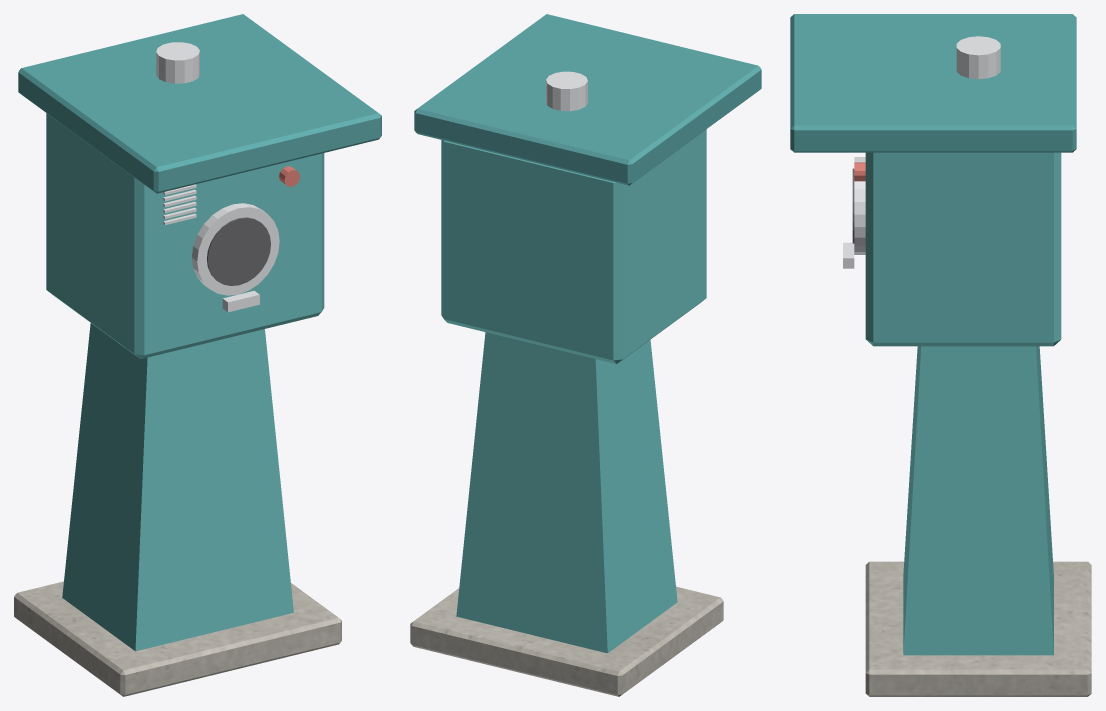
The model's file is tube_kiosk.glb.
The picture shows the model from 3 angles, left to right: view 1: azimuth 30°, elevation 25°; view 2: azimuth 150°, elevation 25°; view 3: azimuth 270°, elevation 25°; orthographic projection. The views are drawn at different scales.
Visible parts, largest first — view 1: tube_kiosk_teal, tube_kiosk_teal_d, tube_kiosk_concrete, tube_kiosk_chrome, tube_kiosk_dark; view 2: tube_kiosk_teal, tube_kiosk_teal_d, tube_kiosk_concrete, tube_kiosk_chrome; view 3: tube_kiosk_teal, tube_kiosk_teal_d, tube_kiosk_concrete, tube_kiosk_chrome.
Part boxes in pixels (left/top/right/bottom): tube_kiosk_teal: left=46, top=113, right=324, bottom=651; tube_kiosk_teal_d: left=18, top=14, right=381, bottom=193; tube_kiosk_concrete: left=14, top=581, right=341, bottom=696; tube_kiosk_chrome: left=156, top=42, right=279, bottom=312; tube_kiosk_dark: left=207, top=217, right=270, bottom=285; tube_kiosk_teal: left=441, top=129, right=706, bottom=653; tube_kiosk_teal_d: left=414, top=14, right=761, bottom=185; tube_kiosk_concrete: left=410, top=586, right=723, bottom=696; tube_kiosk_chrome: left=546, top=71, right=587, bottom=111; tube_kiosk_teal: left=865, top=152, right=1061, bottom=655; tube_kiosk_teal_d: left=790, top=14, right=1076, bottom=152; tube_kiosk_concrete: left=865, top=561, right=1091, bottom=696; tube_kiosk_chrome: left=843, top=36, right=1000, bottom=268.
Bounding box in the file's own units: 0.72 × 1.75 × 0.8.
Materials: 7 (1 with a texture image).
